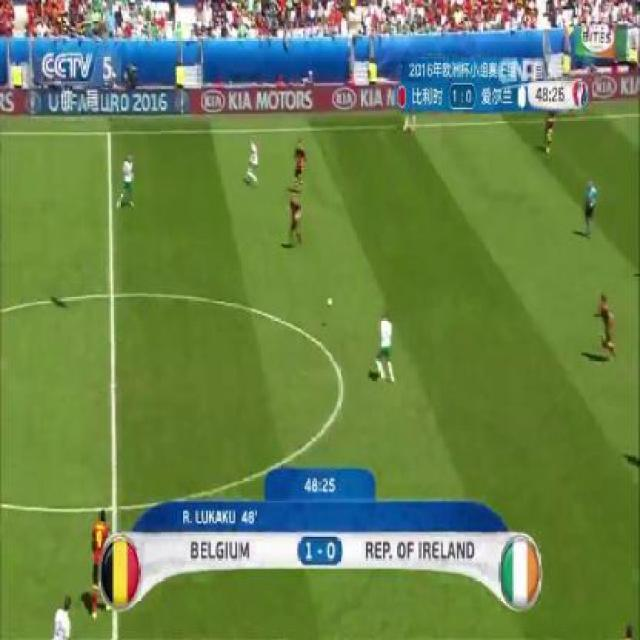ball: (323, 293, 340, 312)
player: (591, 289, 624, 364), (372, 307, 401, 387), (116, 153, 144, 211), (285, 192, 311, 250), (241, 135, 264, 191), (52, 591, 77, 640), (291, 135, 310, 193), (542, 105, 559, 160), (90, 511, 110, 542)
referee: (580, 176, 600, 240)
